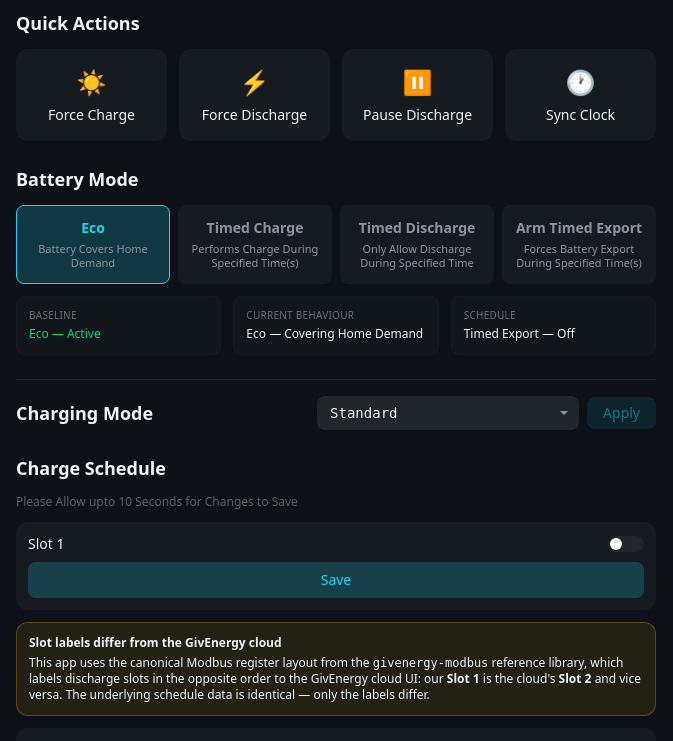
Scenario: <ControlPage/> — independent battery mechanisms › keeps Applying until 90s — slow write batches must not time out spuriously
Step 1. Click the button "Timed Export" → (579, 244), box [502, 204, 656, 284]
Wait 90001 ms
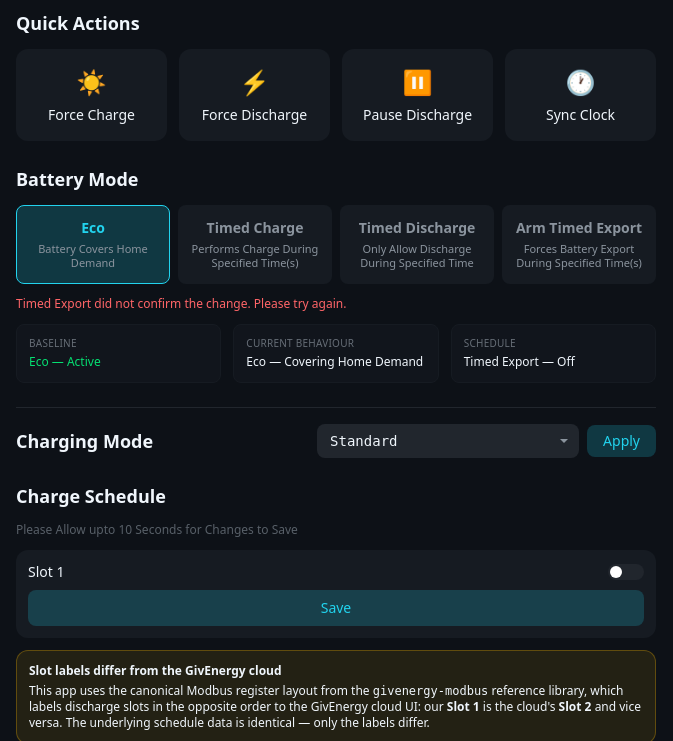
expect the text "Applying…" is shown: met, box [516, 218, 642, 238]
expect the text "Timed Export did not confirm the change. Please try again." is shown: met, box [16, 295, 346, 312]
